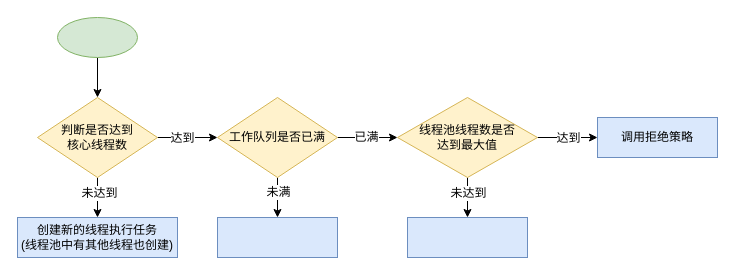
This 735x275 diagram has some shape labels left out. The shapes that lost their labels are listed below. From the top down, each one's centre as x and y in pixels, then its label:
the point at 97,37: 提交任务
the point at 277,237: 将任务加入工作队列
the point at 467,237: 创建线程执行任务
